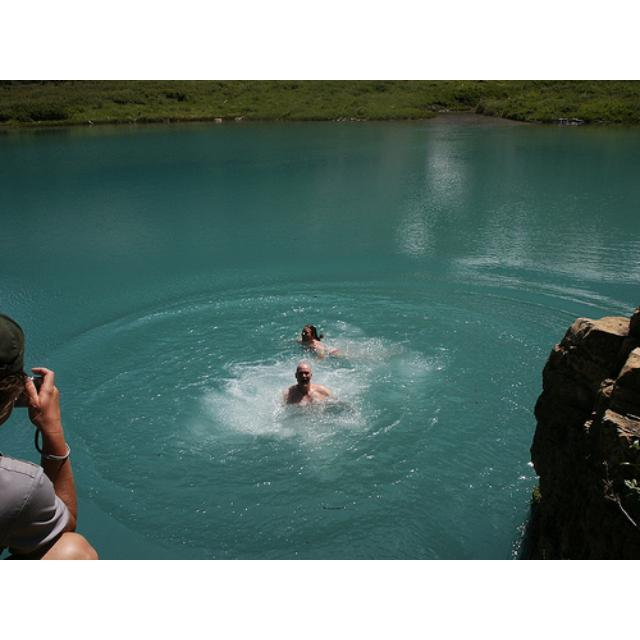human: (286, 361, 333, 410), (298, 320, 338, 360)
